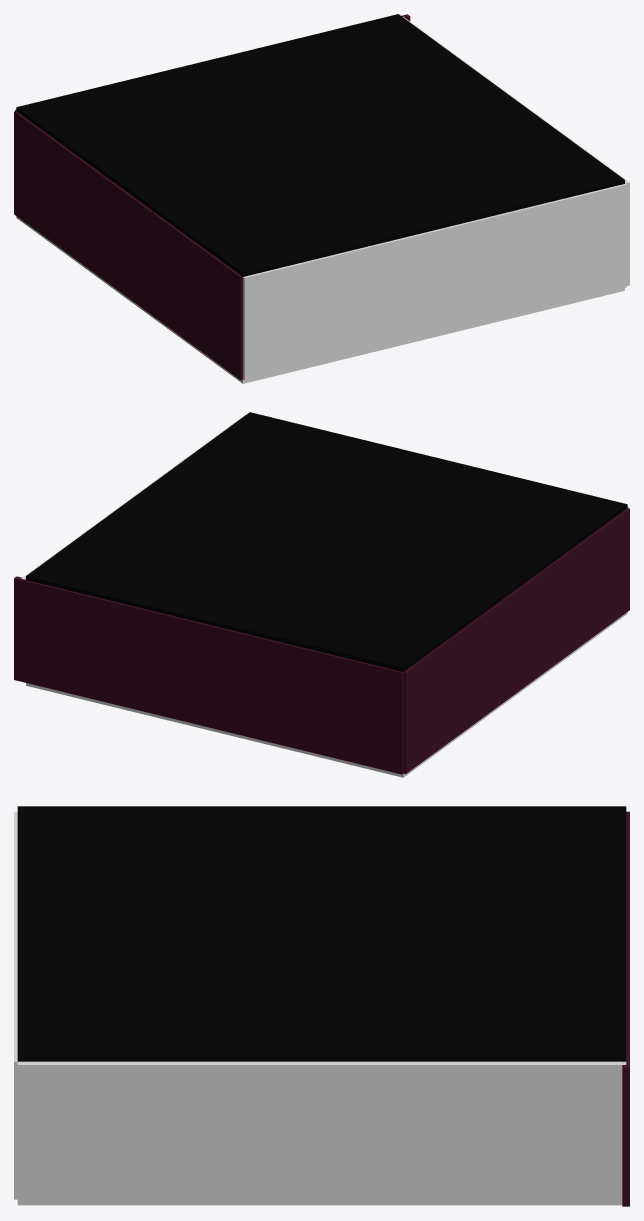
File: EscenarioVR.fbx
3 renders of one model, top to bottom at view 1: azimuth 30°, elevation 25°; view 2: azimuth 150°, elevation 25°; view 3: azimuth 270°, elevation 25°, orthographic. The views are drawn at different scales.
Visible parts, largest first — view 1: techo, Pared2, Pared4, Suelo, Pared1; view 2: techo, Pared3, Pared4, Suelo; view 3: techo, Pared1, Suelo, Pared3, Pared2.
Part boxes in pixels (box(x1,y1,x2,y2)): techo: box(16, 14, 624, 276); Pared2: box(243, 184, 626, 380); Pared4: box(14, 111, 242, 380); Suelo: box(16, 216, 624, 383); Pared1: box(403, 16, 629, 285); techo: box(26, 412, 627, 671); Pared3: box(14, 576, 403, 774); Pared4: box(403, 508, 629, 773); Suelo: box(26, 612, 627, 777); techo: box(17, 806, 626, 1061); Pared1: box(17, 1061, 626, 1202); Suelo: box(17, 1202, 622, 1205); Pared3: box(622, 811, 629, 1206); Pared2: box(14, 811, 17, 1199).
Bounding box in the file's own units: 3220 × 863 × 3240.
